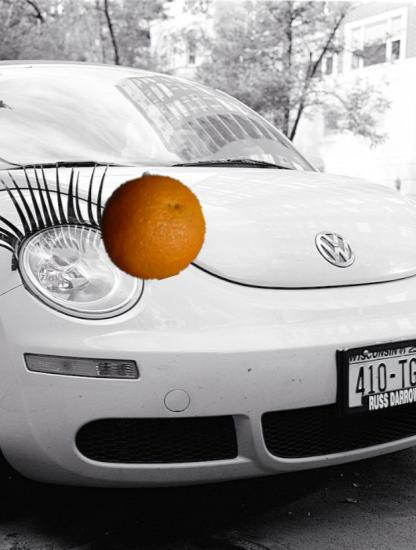Orange: (99, 172, 207, 280)
